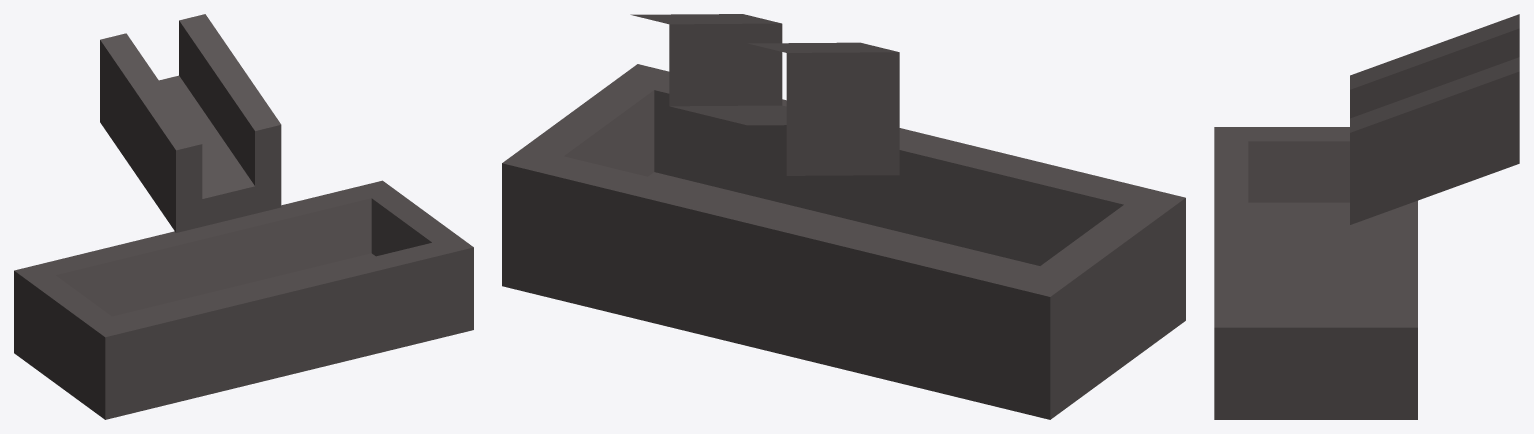
3 renders of one model, left to right at view 1: azimuth 30°, elevation 25°; view 2: azimuth 150°, elevation 25°; view 3: azimuth 270°, elevation 25°, orthographic. The views are drawn at different scales.
Bounding box in the file's own units: 112 × 72 × 72.
Materials: 1 (1 with a texture image).
